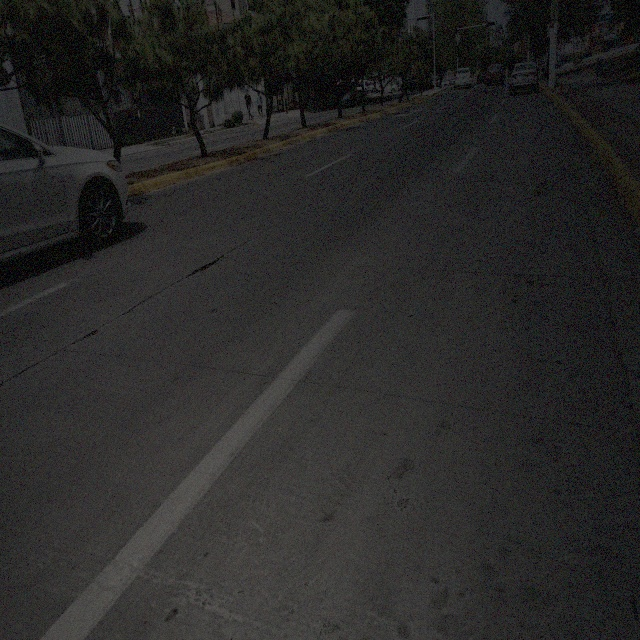pothole: (190, 250, 223, 275)
